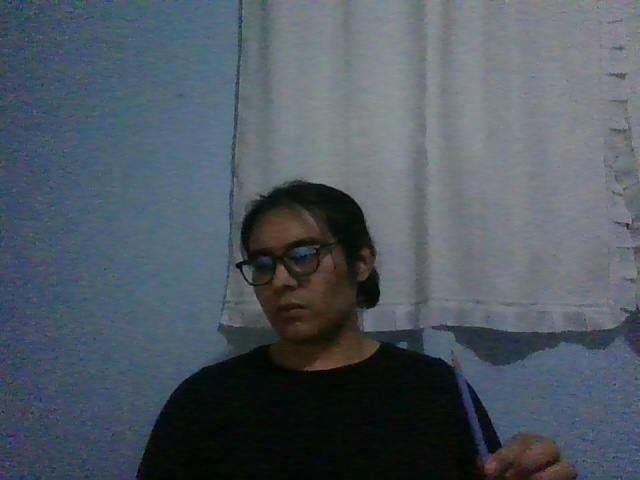lapiz: (450, 349, 493, 480)
